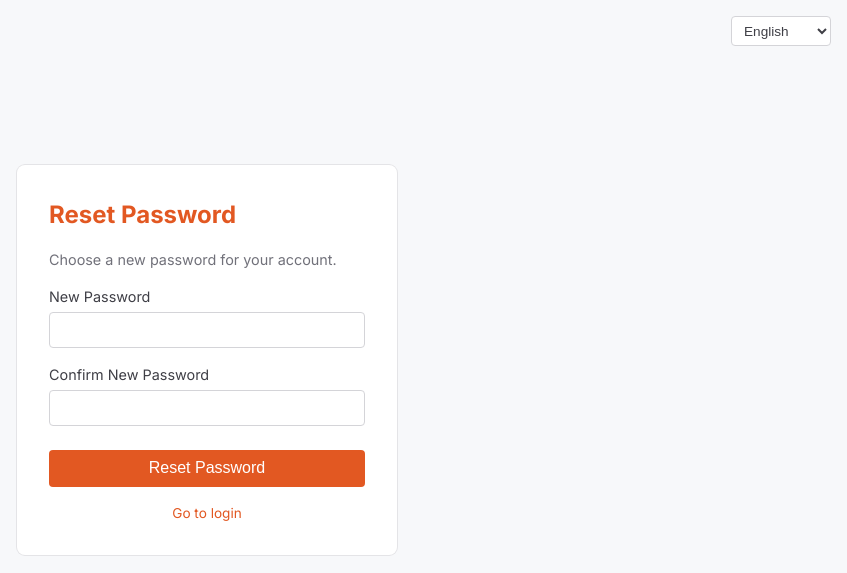
Test: ResetPassword page › shows a clear invalid/expired message with a recovery link on a 401
The image size is (847, 573).
Type "newpassword123" into the password field labelled "New Password".
click(207, 330); type("newpassword123")  # box [49,312,365,348]
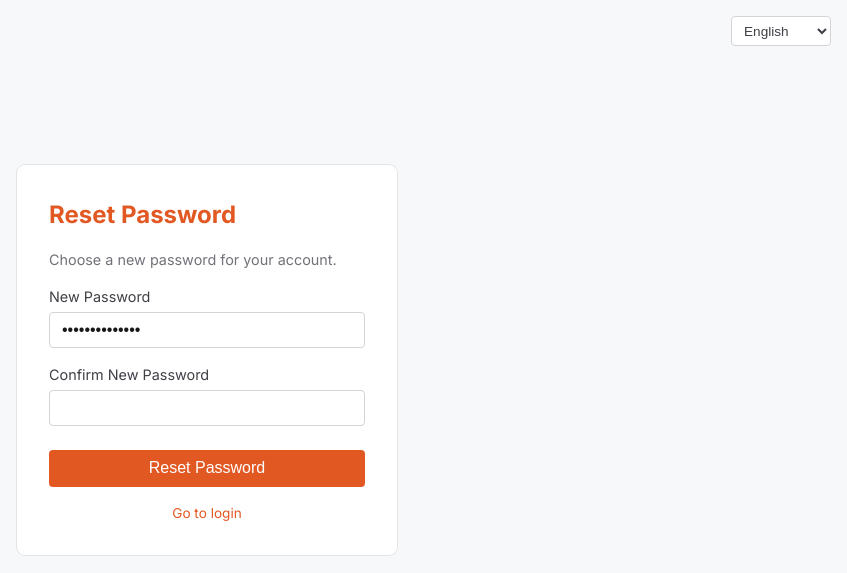
Type "newpassword123" into the password field labelled "Confirm New Password".
click(207, 408); type("newpassword123")  # box [49,390,365,426]
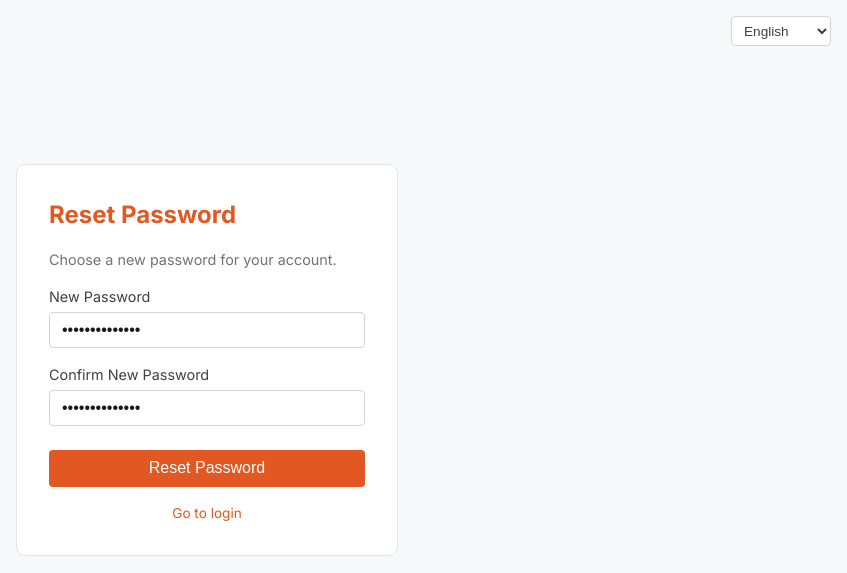
Click the button "Reset Password".
click(207, 468)  # box [49,450,365,487]
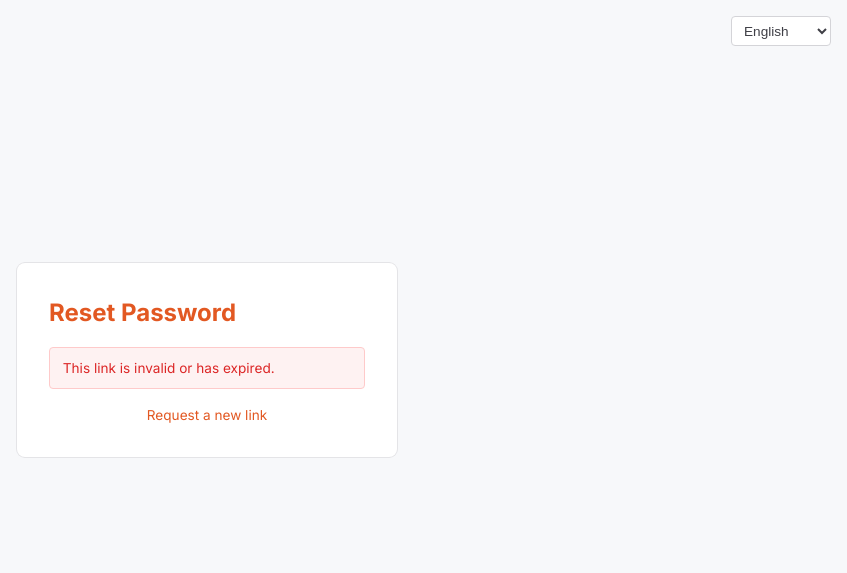
expect the text "This link is invalid or has expired." is shown: met, box [49,347,365,389]
